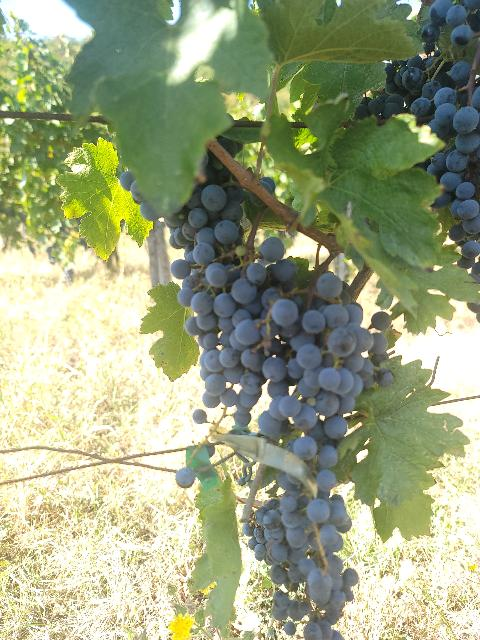grapes: (356, 0, 480, 289), (269, 272, 394, 470), (243, 484, 359, 640), (176, 239, 298, 354), (204, 299, 299, 411)
